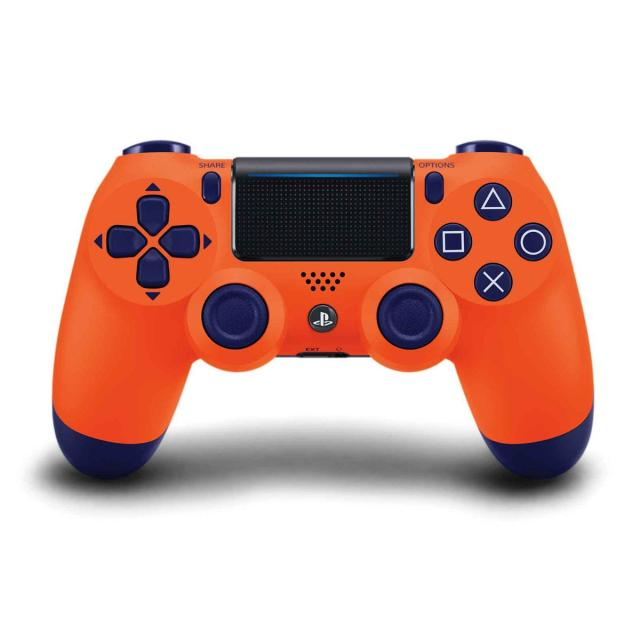ps4_controller: (78, 73, 588, 500)
